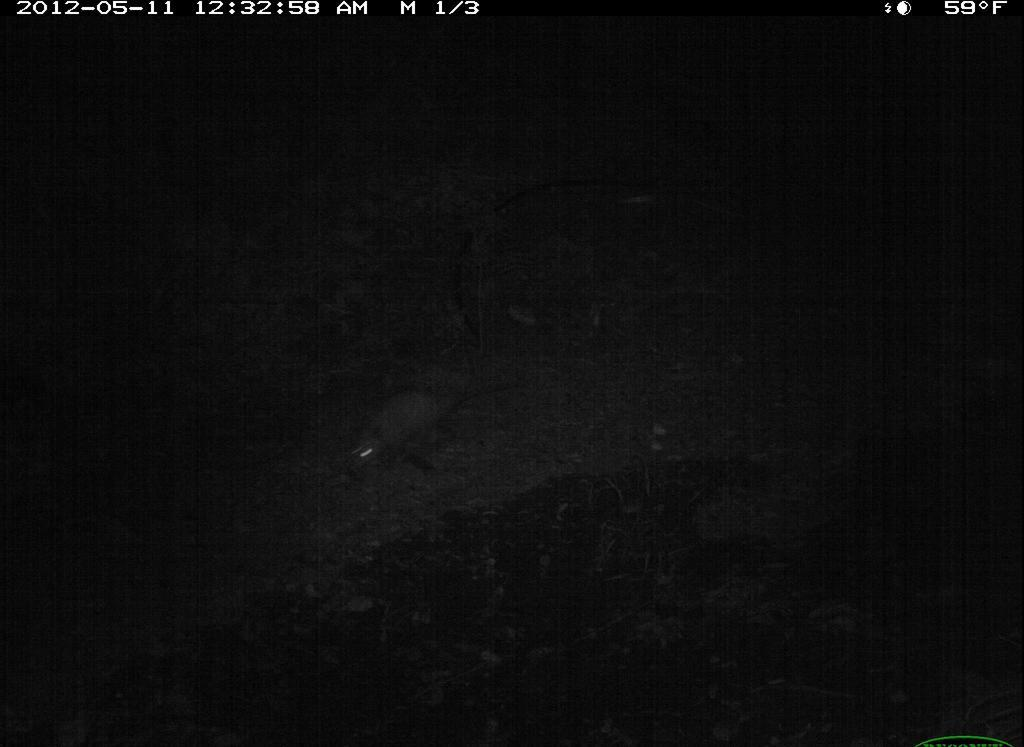opossum: (346, 377, 532, 477)
